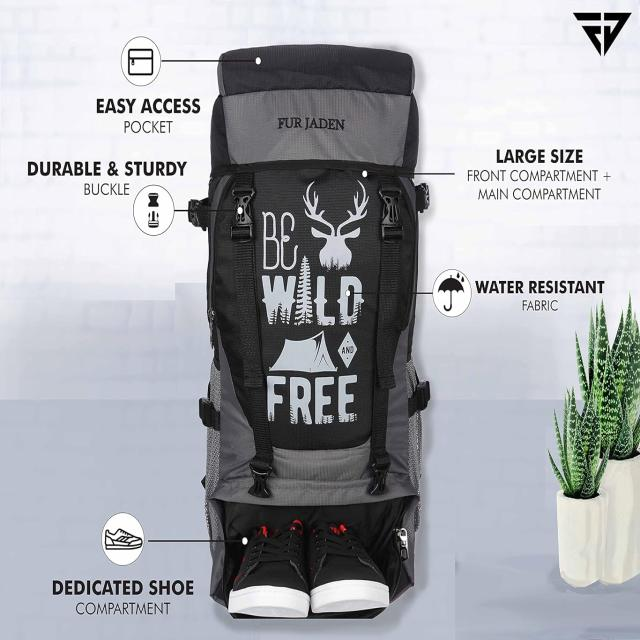backpack: (193, 44, 431, 621)
